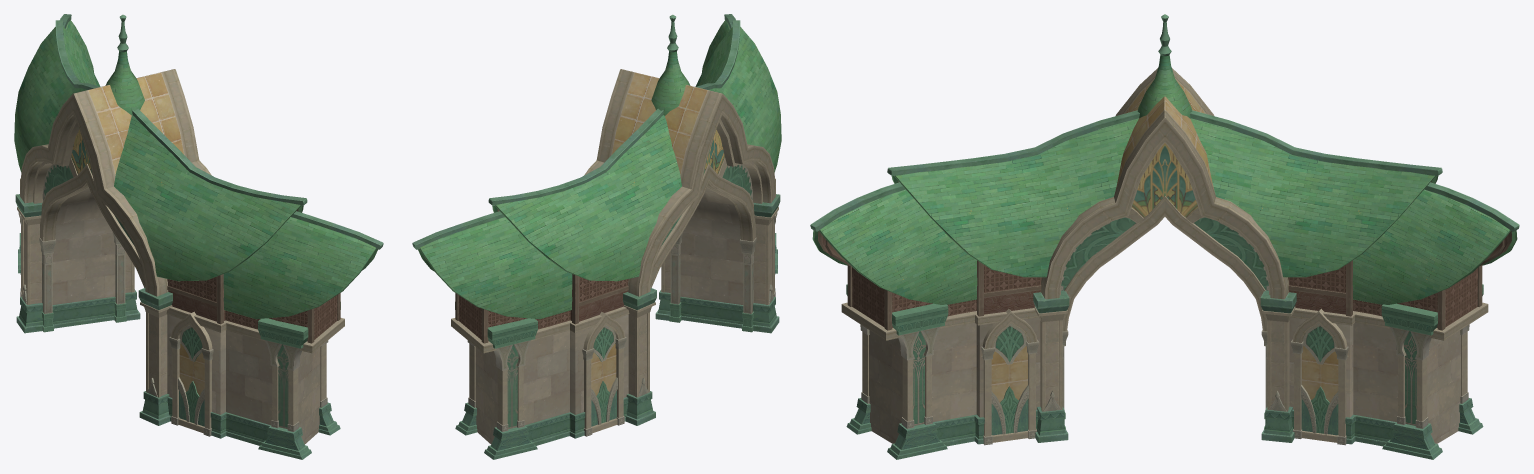
File: Homeworld_Exterior_Xm_Build_BigDoor_01_Lod0.fbx
3 views of the same model, side by side, from view 1: azimuth 30°, elevation 25°; view 2: azimuth 150°, elevation 25°; view 3: azimuth 270°, elevation 25° (orthographic). The views are drawn at different scales.
Parts seen in each view (by area): view 1: Area_Xm_Build_XKC_Comp_Ybt_06_Lod0, Area_Xm_Build_XKC_Comp_Ybt_09_Vo; view 2: Area_Xm_Build_XKC_Comp_Ybt_06_Lod0, Area_Xm_Build_XKC_Comp_Ybt_09_Vo; view 3: Area_Xm_Build_XKC_Comp_Ybt_06_Lod0, Area_Xm_Build_XKC_Comp_Ybt_09_Vo (1).
Boxes of the visible parts, box(x1,y1,x2,y2) form: Area_Xm_Build_XKC_Comp_Ybt_06_Lod0: box(14, 14, 383, 459); Area_Xm_Build_XKC_Comp_Ybt_09_Vo: box(71, 129, 92, 174); Area_Xm_Build_XKC_Comp_Ybt_06_Lod0: box(412, 14, 781, 459); Area_Xm_Build_XKC_Comp_Ybt_09_Vo: box(703, 130, 724, 174); Area_Xm_Build_XKC_Comp_Ybt_06_Lod0: box(810, 14, 1519, 459); Area_Xm_Build_XKC_Comp_Ybt_09_Vo (1): box(1132, 143, 1197, 217).
Size of what is drawn, in the model's own units: 6.37 by 13.63 by 22.29.
